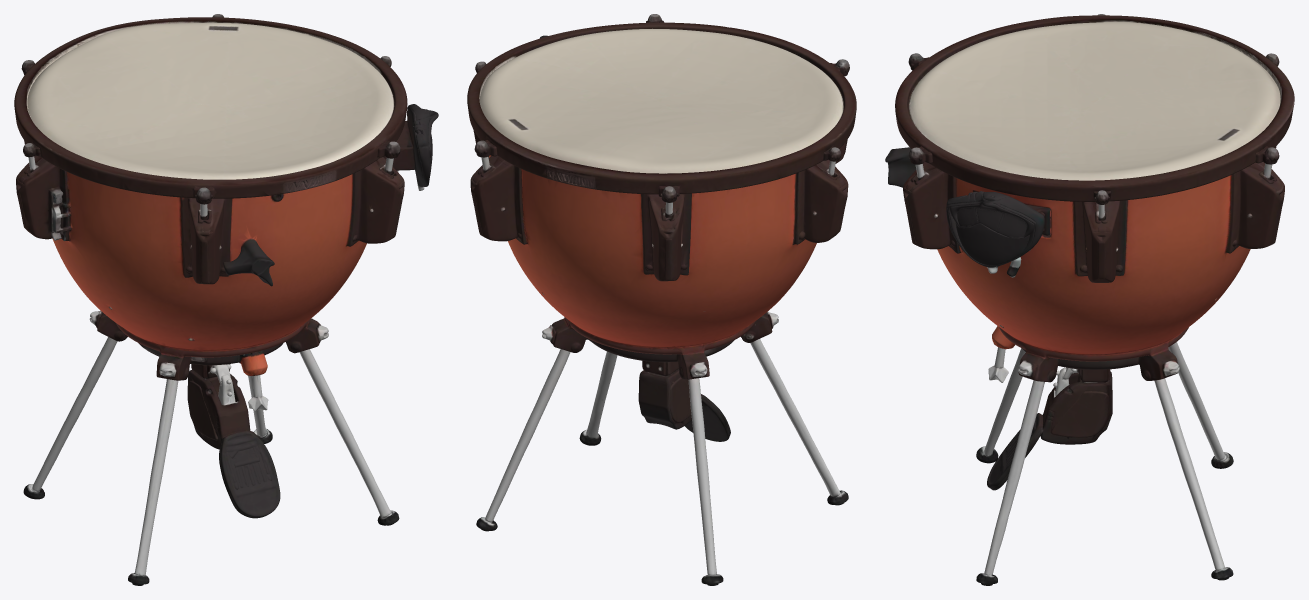
File: timpano.glb
The picture shows the model from 3 angles, left to right: view 1: azimuth 30°, elevation 25°; view 2: azimuth 150°, elevation 25°; view 3: azimuth 270°, elevation 25°; orthographic projection. The views are drawn at different scales.
Parts seen in each view (by area): view 1: tripo_node_961b9bca-d76a-4de2-bf62-e5ed2c1d3d6c; view 2: tripo_node_961b9bca-d76a-4de2-bf62-e5ed2c1d3d6c; view 3: tripo_node_961b9bca-d76a-4de2-bf62-e5ed2c1d3d6c.
Boxes of the visible parts, box(x1,y1,x2,y2) form: tripo_node_961b9bca-d76a-4de2-bf62-e5ed2c1d3d6c: box(14, 14, 438, 585); tripo_node_961b9bca-d76a-4de2-bf62-e5ed2c1d3d6c: box(467, 14, 856, 585); tripo_node_961b9bca-d76a-4de2-bf62-e5ed2c1d3d6c: box(885, 14, 1294, 585).
Bounding box in the file's own units: 0.9168 × 0.9802 × 0.8418.
1 material, 1 textured.
